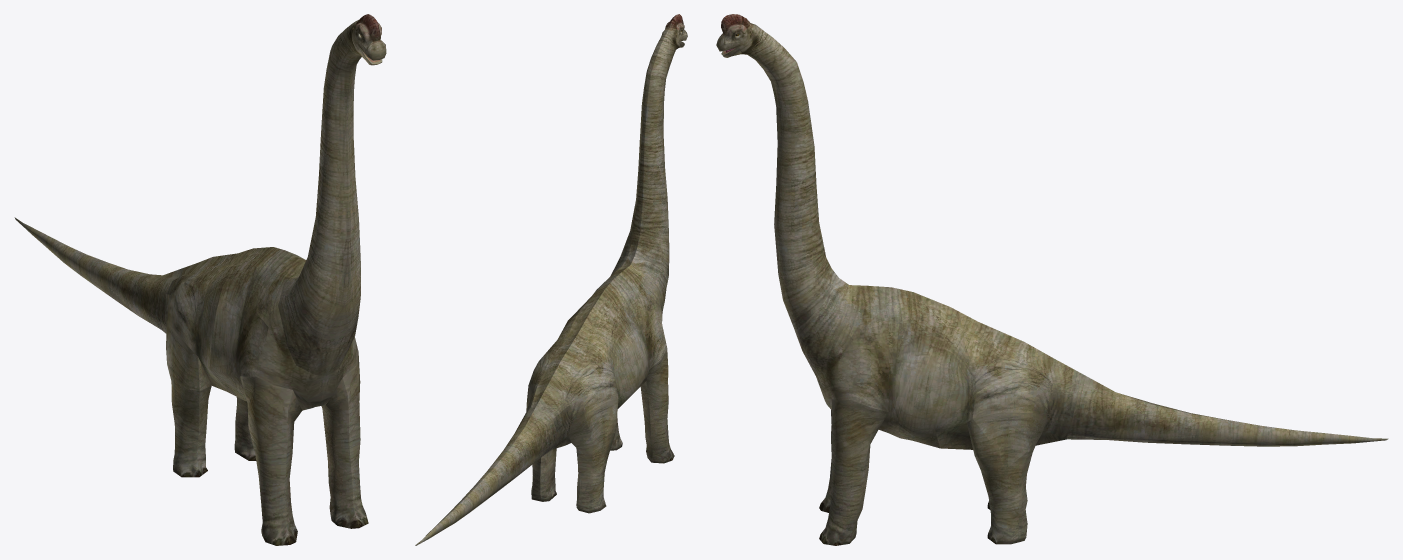
Rendered from brac.obj.
The picture shows the model from 3 angles, left to right: view 1: azimuth 30°, elevation 25°; view 2: azimuth 150°, elevation 25°; view 3: azimuth 270°, elevation 25°; orthographic projection. The views are drawn at different scales.
Visible parts, largest first — view 1: D_L_Calf_mesh; view 2: D_L_Calf_mesh; view 3: D_L_Calf_mesh.
Boxes of the visible parts, left/top/right/bottom form: D_L_Calf_mesh: left=14, top=14, right=386, bottom=545; D_L_Calf_mesh: left=415, top=14, right=687, bottom=545; D_L_Calf_mesh: left=716, top=14, right=1388, bottom=545.
Bounding box in the file's own units: 1.22 × 6 × 7.18.
1 material, 1 textured.
